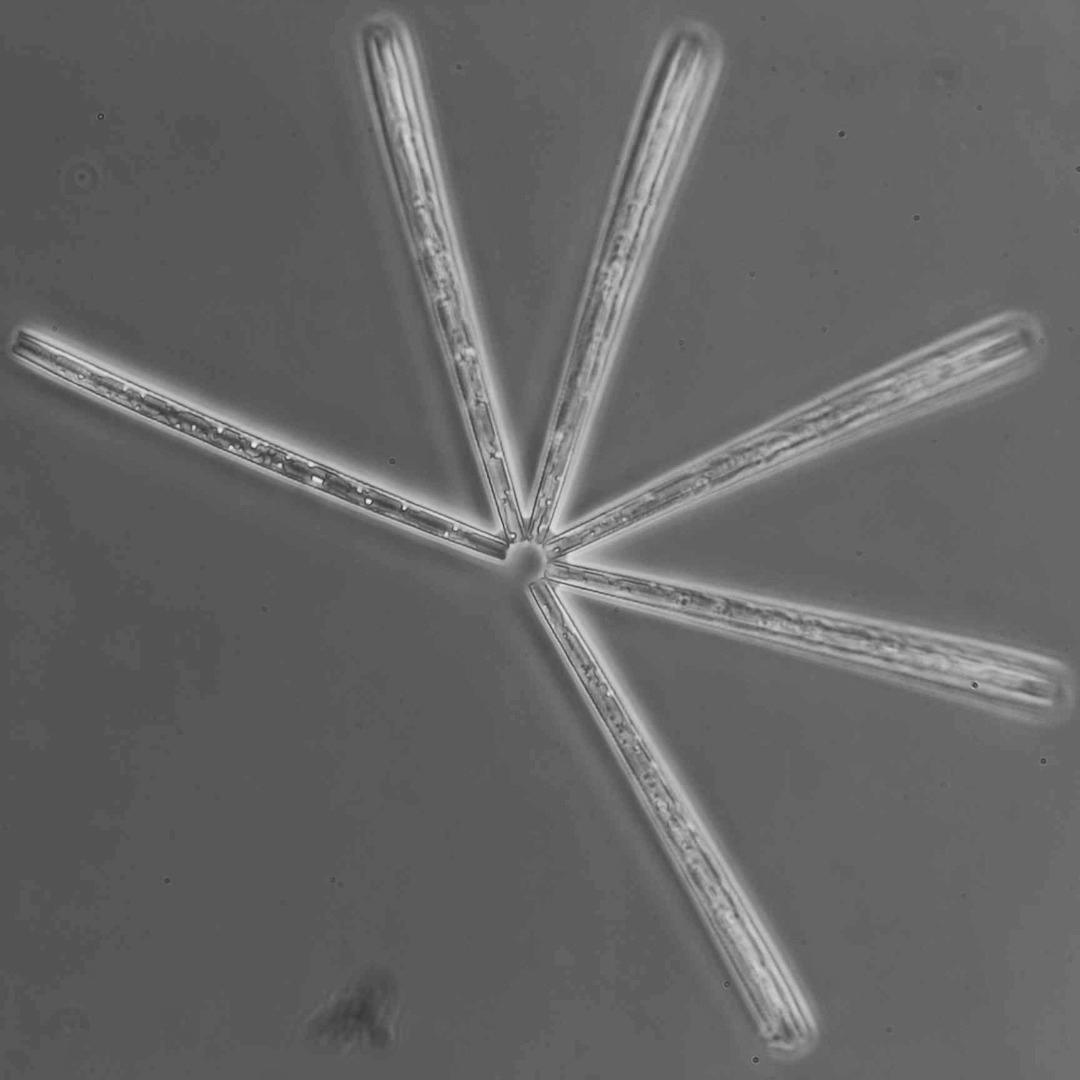thalassionema_nitzschioides: (11, 19, 1067, 1047)
